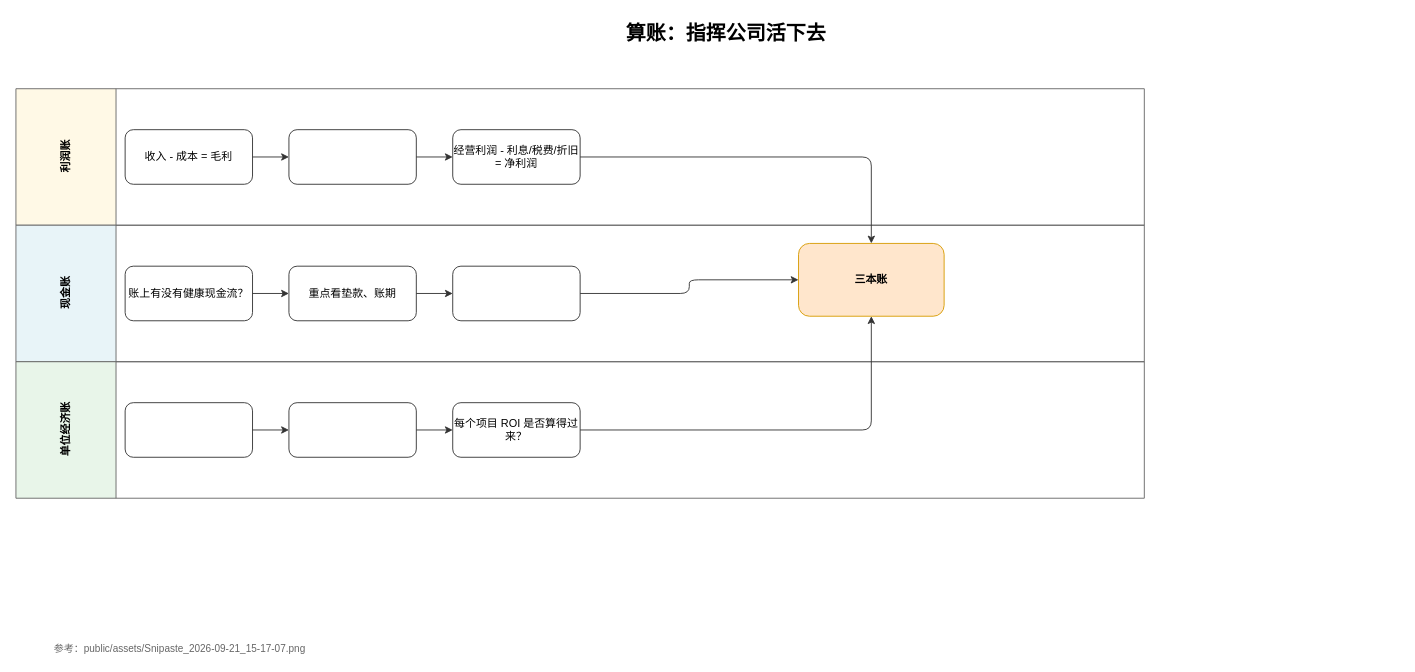
The diagram is 1415 pixels wide and 672 high, and some of its shapes have lost their labels. The shapes that lost their labels are listed below. From the top down, each one's centre as x and y in pixels, then its label:
At (352,156): "毛利 - 经营成本 = 经营利润".
At (516,293): "预付款和订阅费更健康".
At (188,429): "每条产品线 ROI 是否算得过来？".
At (352,429): "每个客户 ROI 是否算得过来？".
